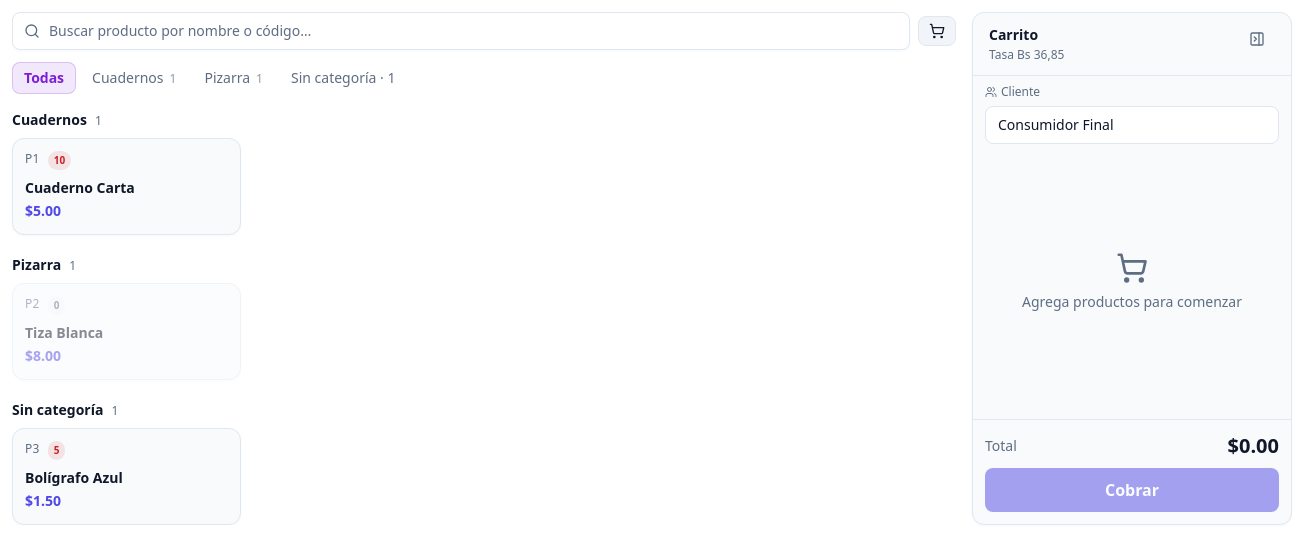
Test: VentaPage › filtra el catálogo por sección
expect the text "Cuaderno Carta" is shown: met, box [25,178,135,198]
expect the text "Tiza Blanca" is shown: met, box [25,323,103,343]
Step 1. Click the button "Cuadernos1" → (134, 78), box [80,62,188,94]
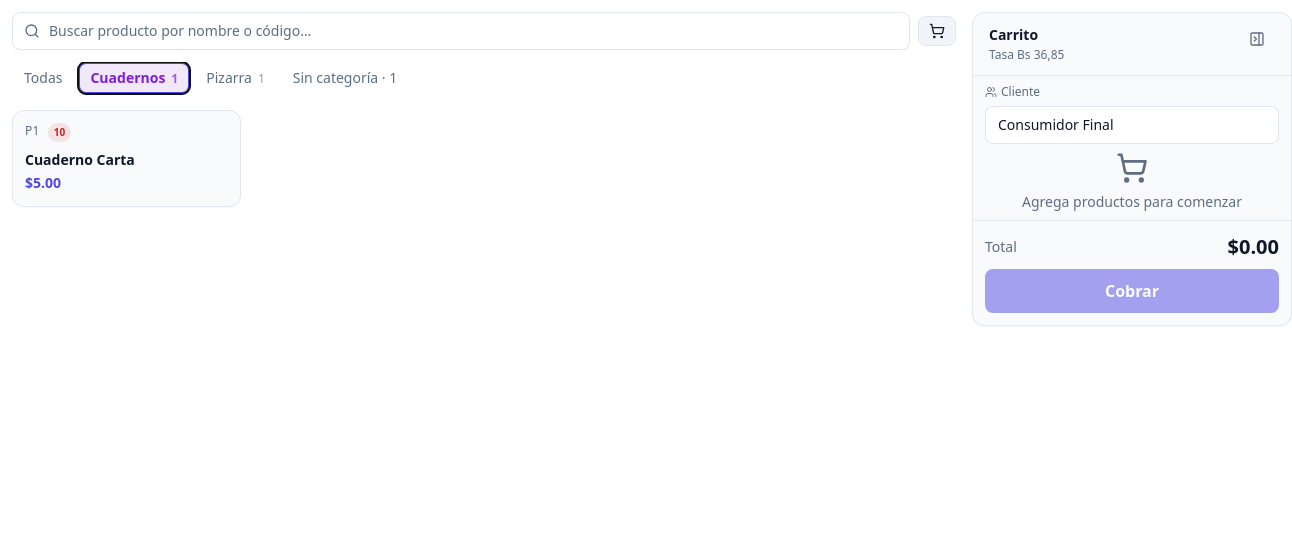
expect the text "Cuaderno Carta" is shown: met, box [25,150,135,170]
expect the button "Tiza Blanca" is gone: met
expect the button "Bolígrafo Azul" is gone: met
Step 2. Click the button "Todas" → (43, 78), box [12,62,74,94]
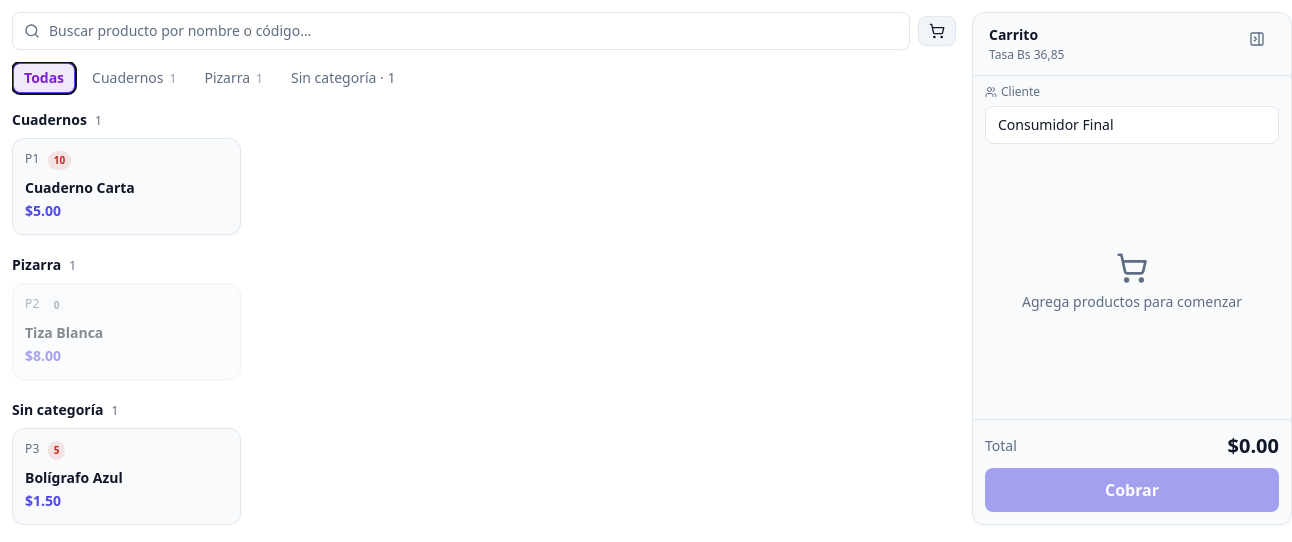
expect the text "Tiza Blanca" is shown: met, box [25,323,103,343]
expect the text "Bolígrafo Azul" is shown: met, box [25,468,123,488]
